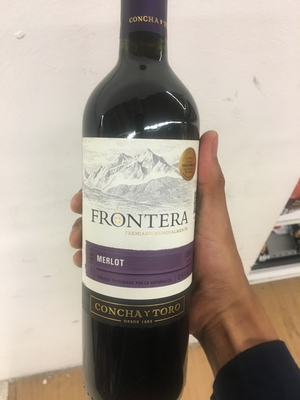frontera merlot: (67, 18, 214, 400)
